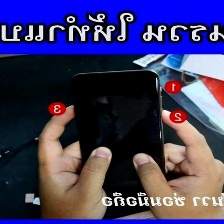phone: (61, 64, 174, 223)
